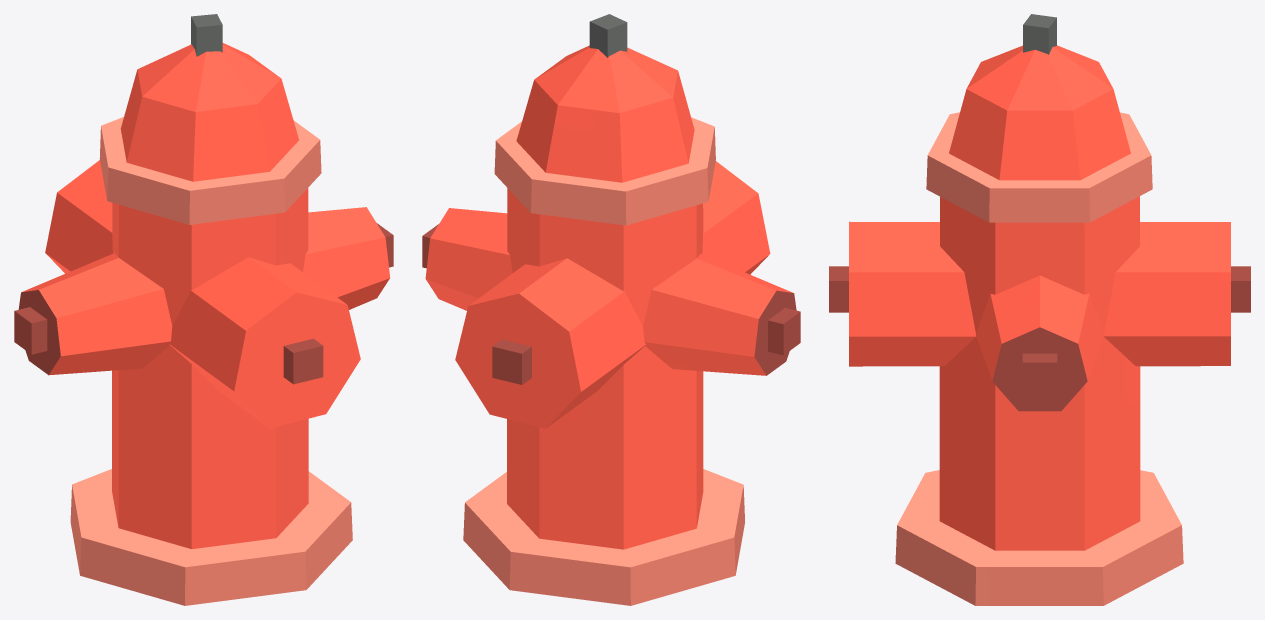
File: fire_hydrant.glb
The picture shows the model from 3 angles, left to right: view 1: azimuth 30°, elevation 25°; view 2: azimuth 150°, elevation 25°; view 3: azimuth 270°, elevation 25°; orthographic projection.
Parts seen in each view (by area): view 1: fire_hydrant(Clone); view 2: fire_hydrant(Clone); view 3: fire_hydrant(Clone).
Boxes of the visible parts, box(x1,y1,x2,y2) form: fire_hydrant(Clone): box(14, 14, 393, 605); fire_hydrant(Clone): box(422, 14, 800, 605); fire_hydrant(Clone): box(829, 14, 1250, 605).
Bounding box in the file's own units: 0.5839 × 0.8078 × 0.5839.
1 material, 1 textured.
